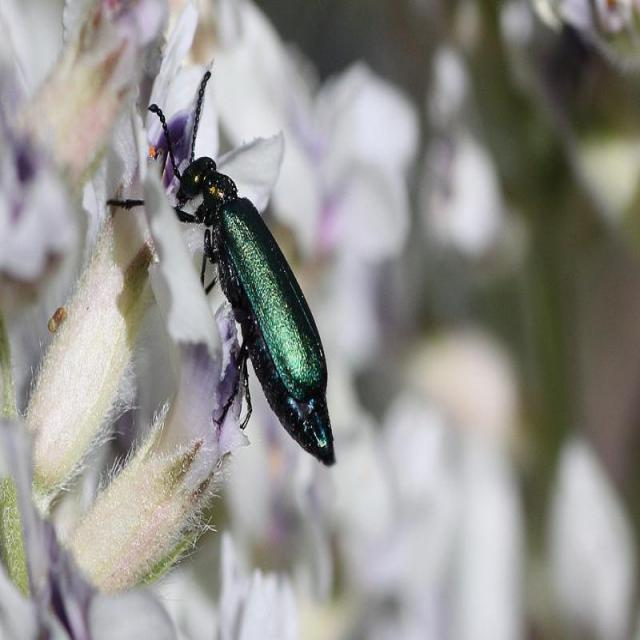BlisterBeetle-Adult-: (127, 62, 338, 470)
